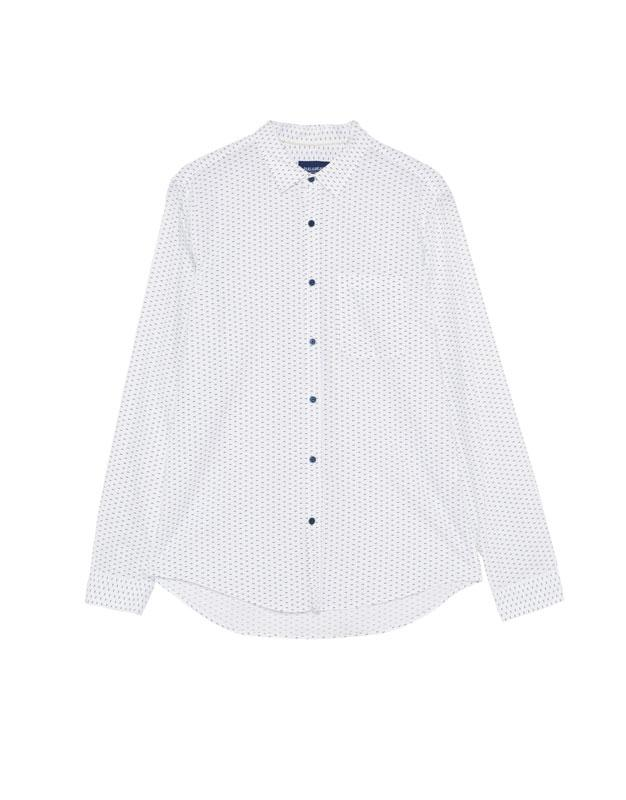teeshirt: (77, 119, 566, 652)
